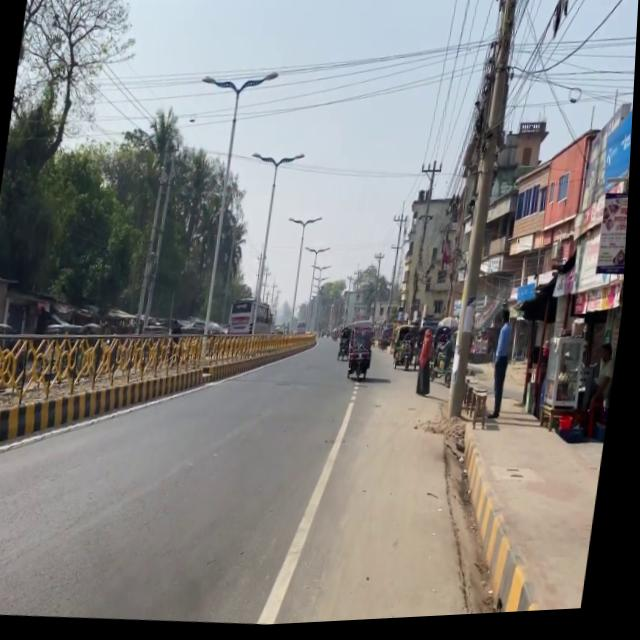Construction-barrier: (0, 347, 210, 471), (451, 442, 543, 621)
Fallen-tree: (349, 346, 376, 386), (340, 340, 354, 365)
Garbage: (540, 336, 599, 440), (462, 387, 495, 435)
Garbage-bin: (488, 312, 520, 424), (589, 347, 620, 447)
Light-pole: (444, 0, 522, 425)
Pole: (0, 287, 301, 459)
Pothole: (436, 354, 618, 621)
